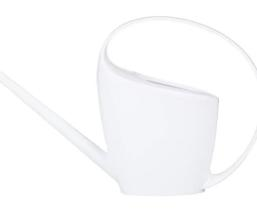ARROSOIR: (0, 0, 257, 204)
